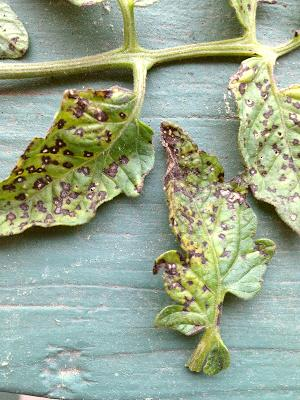Tomato Septoria leaf spot: (150, 110, 267, 387), (0, 87, 149, 242), (225, 47, 299, 253)
